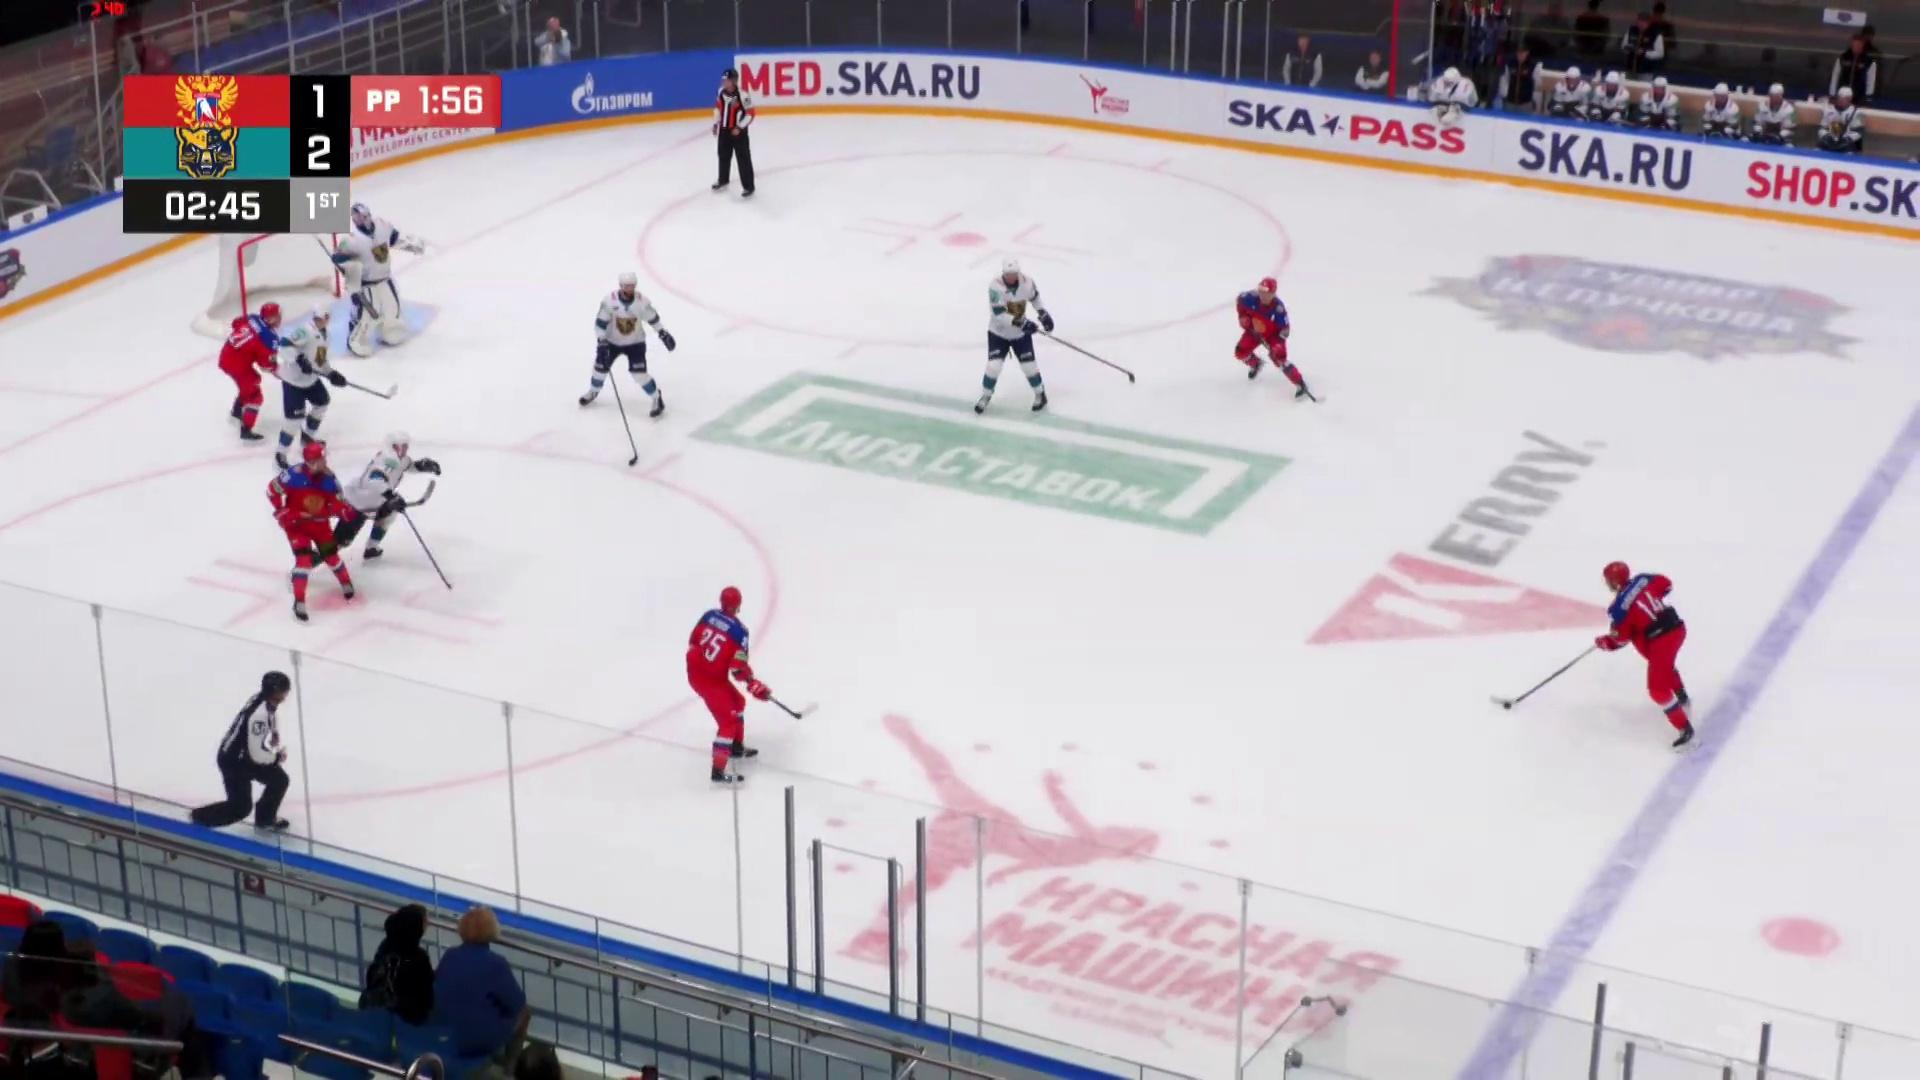ball: (1503, 702, 1511, 711)
